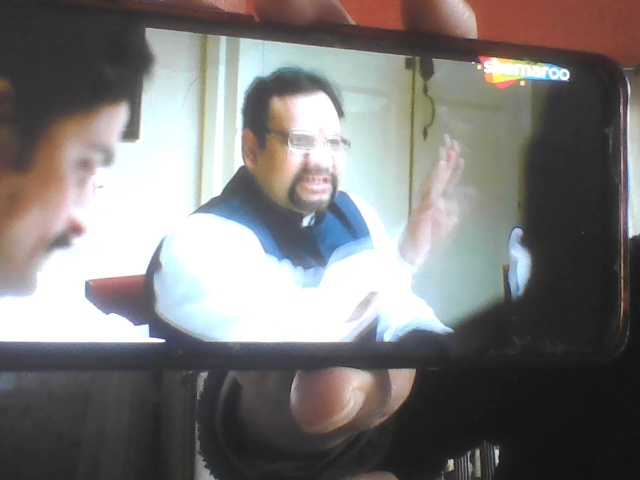fake: (242, 63, 354, 222)
